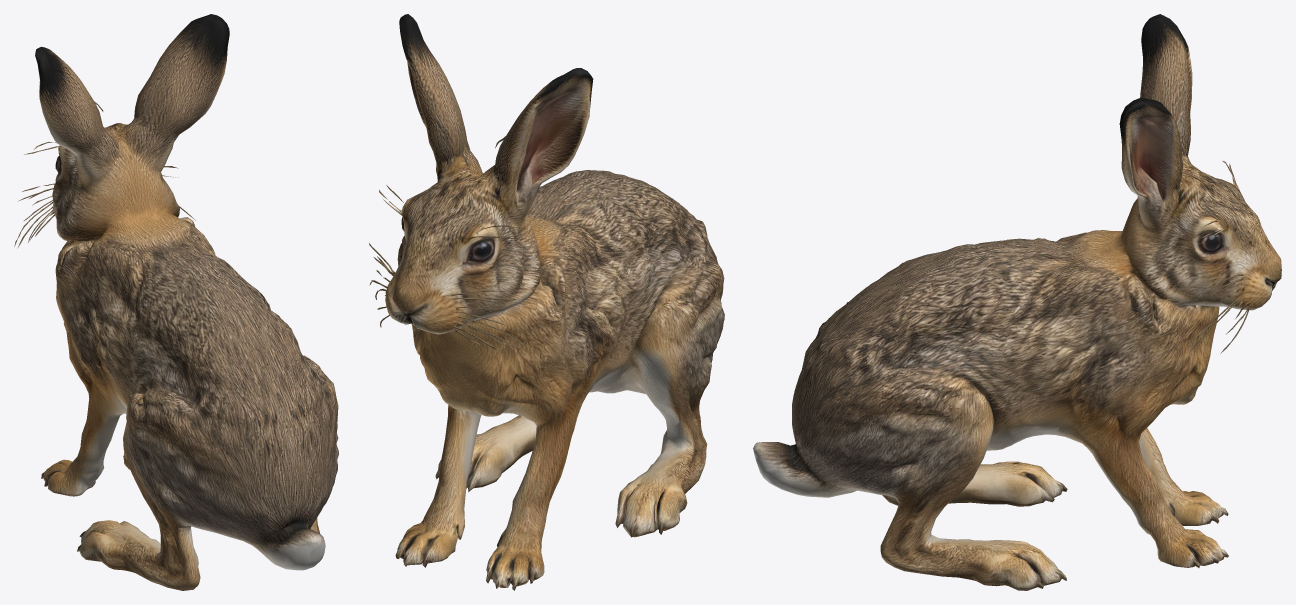
Rendered from hare.glb.
3 views of the same model, side by side, from view 1: azimuth 30°, elevation 25°; view 2: azimuth 150°, elevation 25°; view 3: azimuth 270°, elevation 25° (orthographic). The views are drawn at different scales.
Visible parts, largest first — view 1: tripo_node_9a8e84a5-f74b-4bdf-b888-7d87229d882b; view 2: tripo_node_9a8e84a5-f74b-4bdf-b888-7d87229d882b; view 3: tripo_node_9a8e84a5-f74b-4bdf-b888-7d87229d882b.
Boxes of the visible parts, left/top/right/bottom form: tripo_node_9a8e84a5-f74b-4bdf-b888-7d87229d882b: left=14, top=14, right=338, bottom=590; tripo_node_9a8e84a5-f74b-4bdf-b888-7d87229d882b: left=369, top=14, right=724, bottom=590; tripo_node_9a8e84a5-f74b-4bdf-b888-7d87229d882b: left=753, top=14, right=1281, bottom=590.
Size of the model in its own units: 0.4851 by 1 by 0.993.
1 material, 1 textured.
